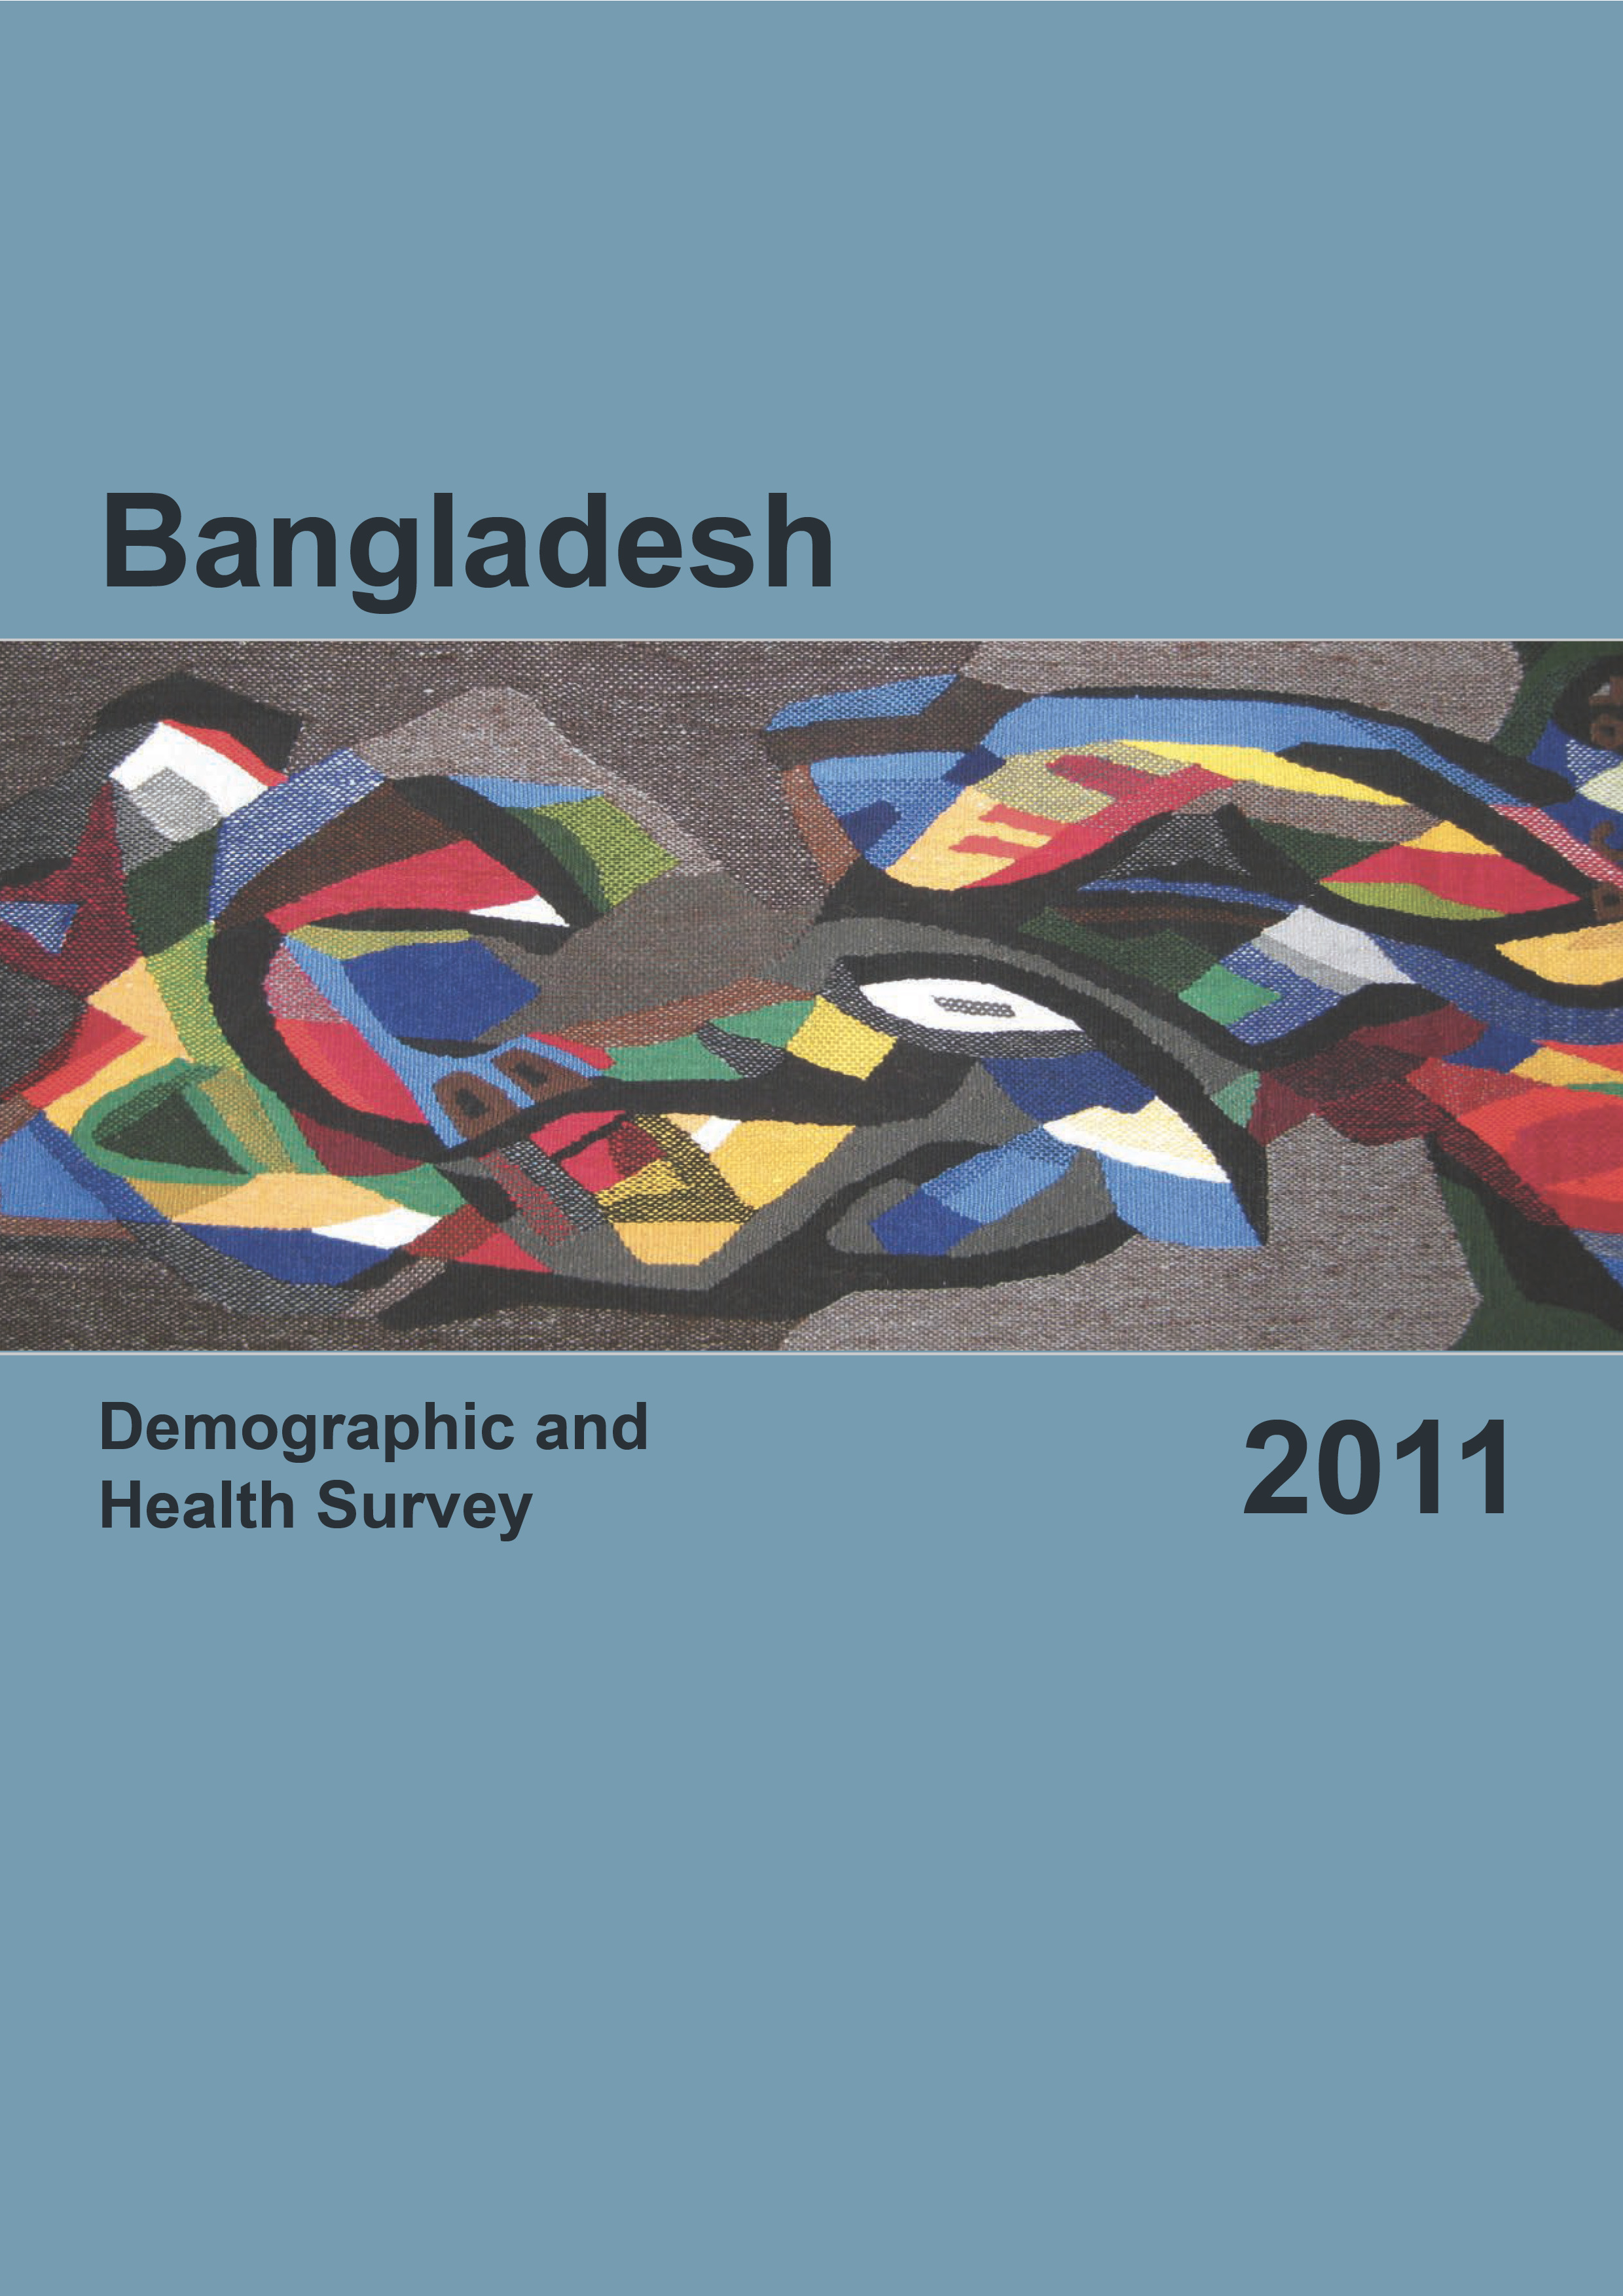figure: (11, 651, 1621, 1348)
section: (67, 1373, 701, 1575), (95, 472, 871, 616), (1226, 1380, 1533, 1561)
